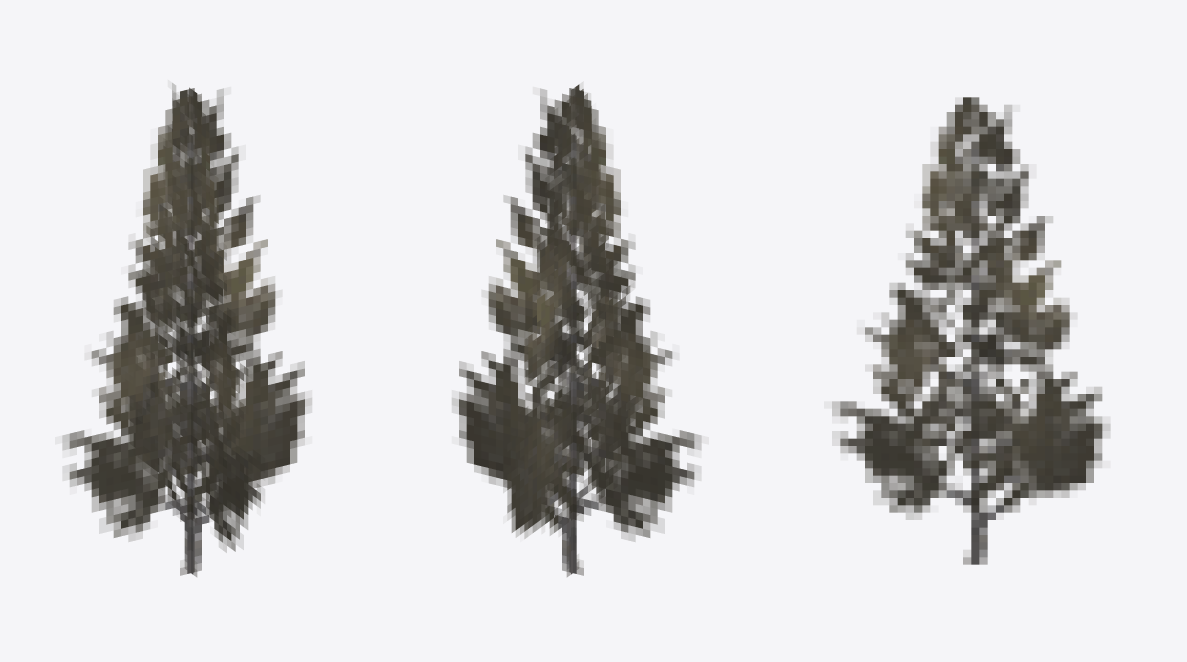
File: tree-pine-large.006_lev2_lev3.glb
The picture shows the model from 3 angles, left to right: view 1: azimuth 30°, elevation 25°; view 2: azimuth 150°, elevation 25°; view 3: azimuth 270°, elevation 25°; orthographic projection. The views are drawn at different scales.
Visible parts, largest first — view 1: tree-pine-large.006_lev2_lev3; view 2: tree-pine-large.006_lev2_lev3; view 3: tree-pine-large.006_lev2_lev3.
Boxes of the visible parts, box(x1,y1,x2,y2) form: tree-pine-large.006_lev2_lev3: box(62, 83, 311, 576); tree-pine-large.006_lev2_lev3: box(452, 84, 701, 576); tree-pine-large.006_lev2_lev3: box(832, 97, 1109, 564).
Size of the model in its own units: 1.92 by 2.51 by 1.92.
Materials: 1 (1 with a texture image).
